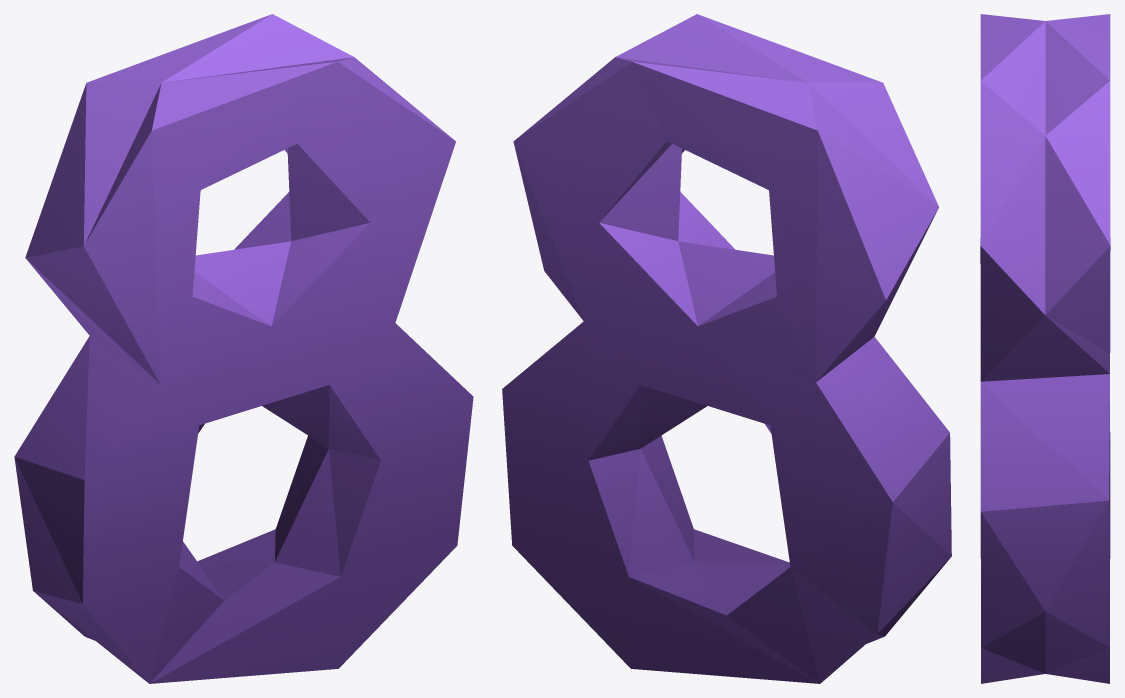
3 renders of one model, left to right at view 1: azimuth 30°, elevation 25°; view 2: azimuth 150°, elevation 25°; view 3: azimuth 270°, elevation 25°, orthographic.
Visible parts, largest first — view 1: Eight; view 2: Eight; view 3: Eight.
Part boxes in pixels (box(x1,y1,x2,y2)): Eight: box(14, 14, 473, 683); Eight: box(502, 14, 951, 683); Eight: box(980, 14, 1110, 683).
Size of the model in its own units: 0.3445 by 0.5007 by 0.0979.
